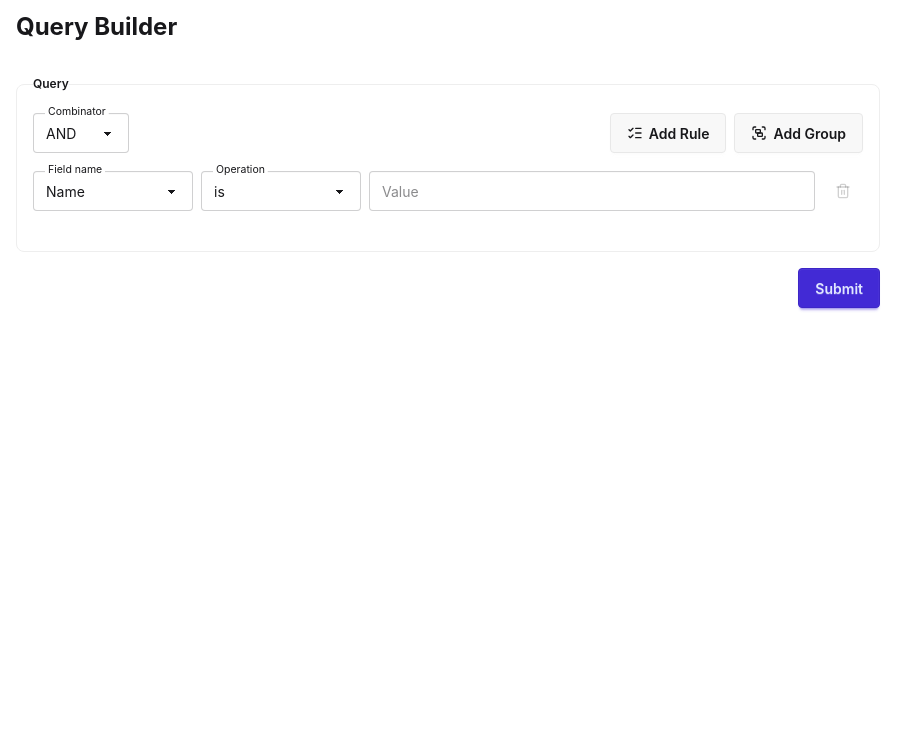
Test case: building the query › nests groups inside groups
Click the button "Add Group".
click(799, 133)  # box [734,113,863,153]
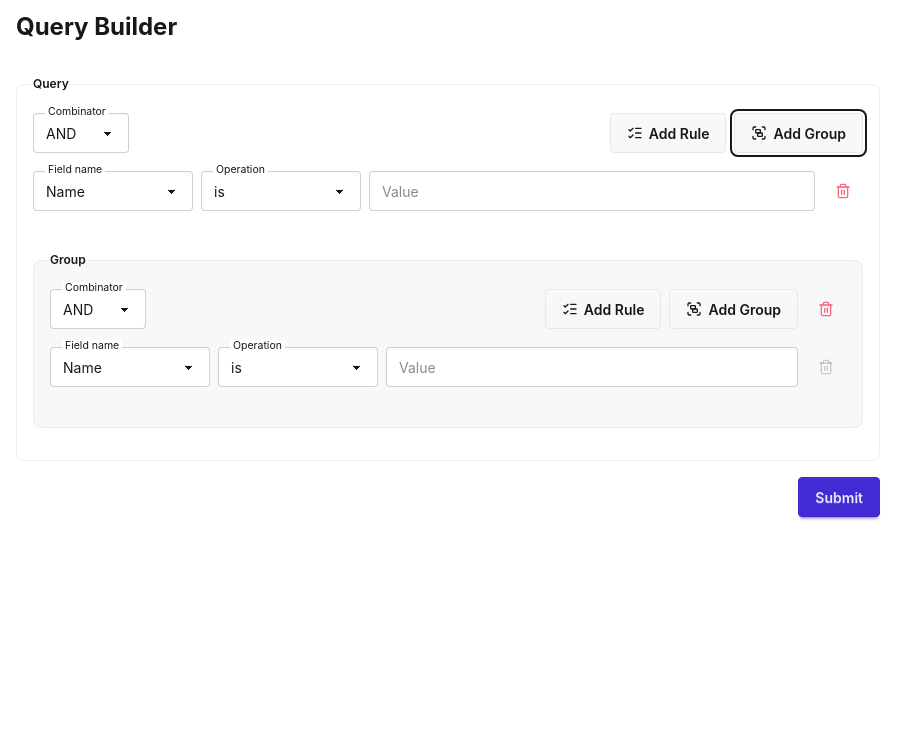
Click the 2nd button "Add Group".
click(734, 309)  # box [670,289,798,329]
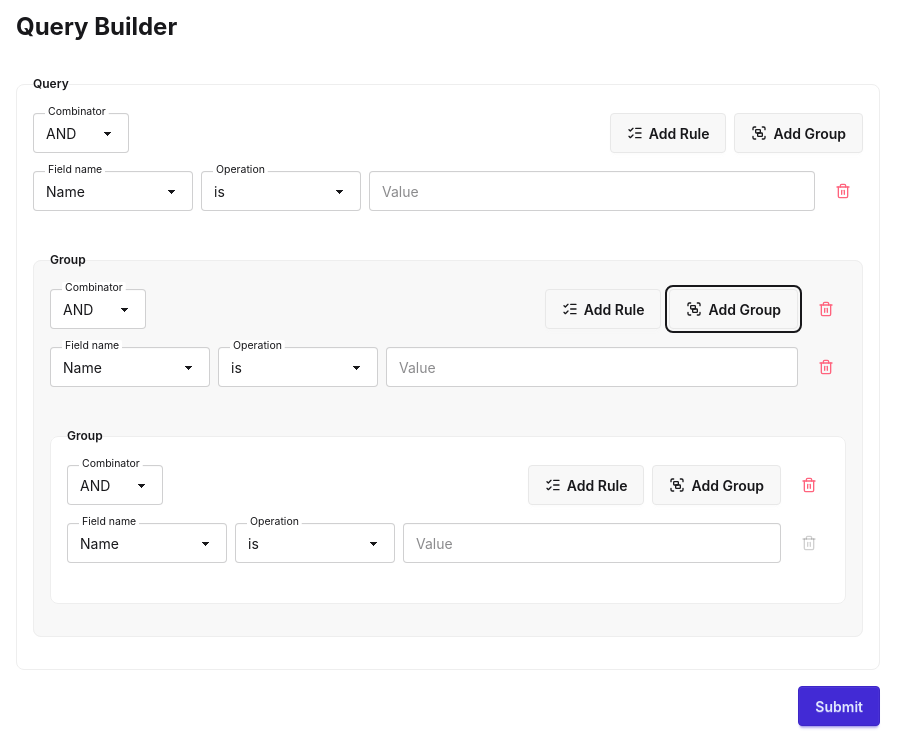
Expected: the number of elements named "Group 1" is 2, [33,243,863,637]; [50,419,846,604]
